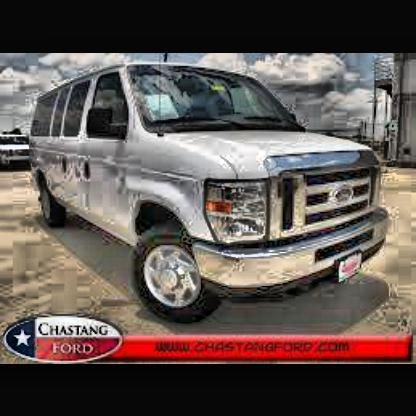Ford E-Series Wagon Van 2012: (25, 59, 396, 327)
